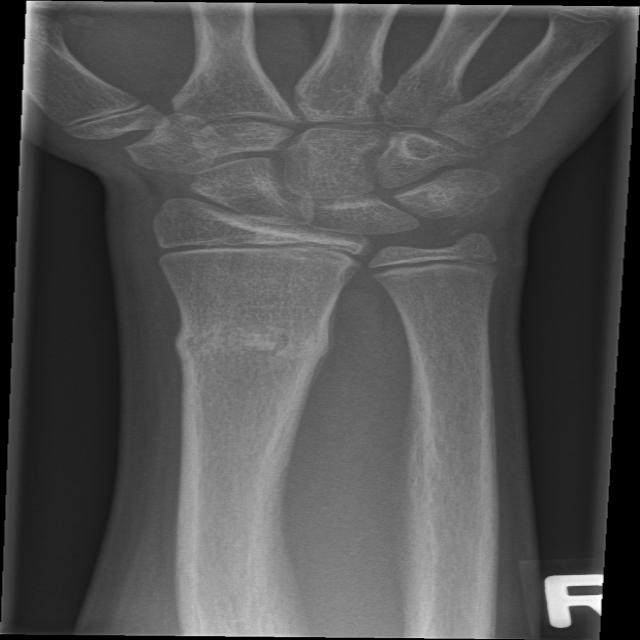radius fracture: (157, 282, 362, 449)
